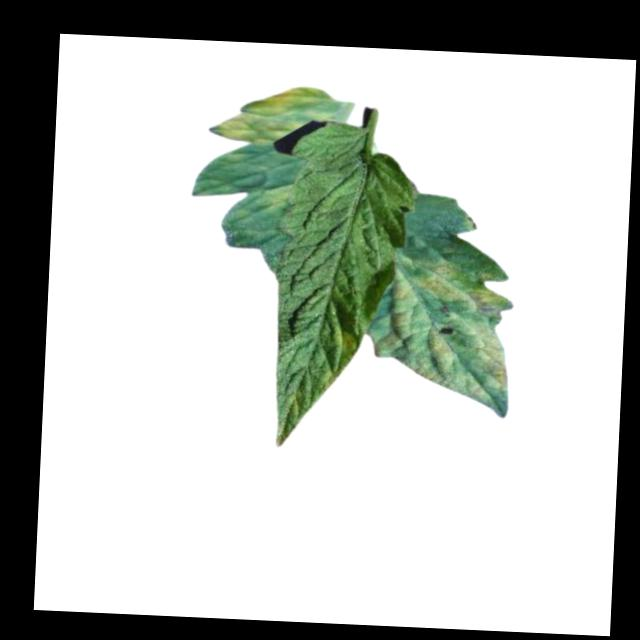Leaf_Mold: (370, 250, 519, 404), (211, 80, 334, 149), (263, 182, 297, 211), (329, 330, 361, 356)
